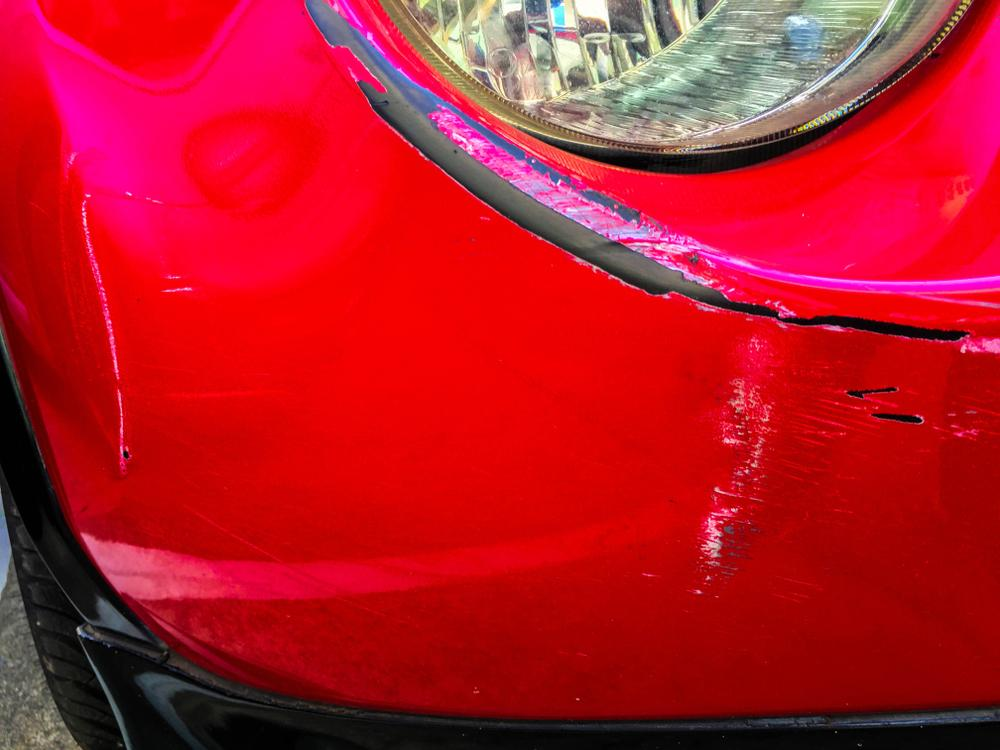scratch: (299, 0, 1000, 621), (65, 176, 192, 488)
